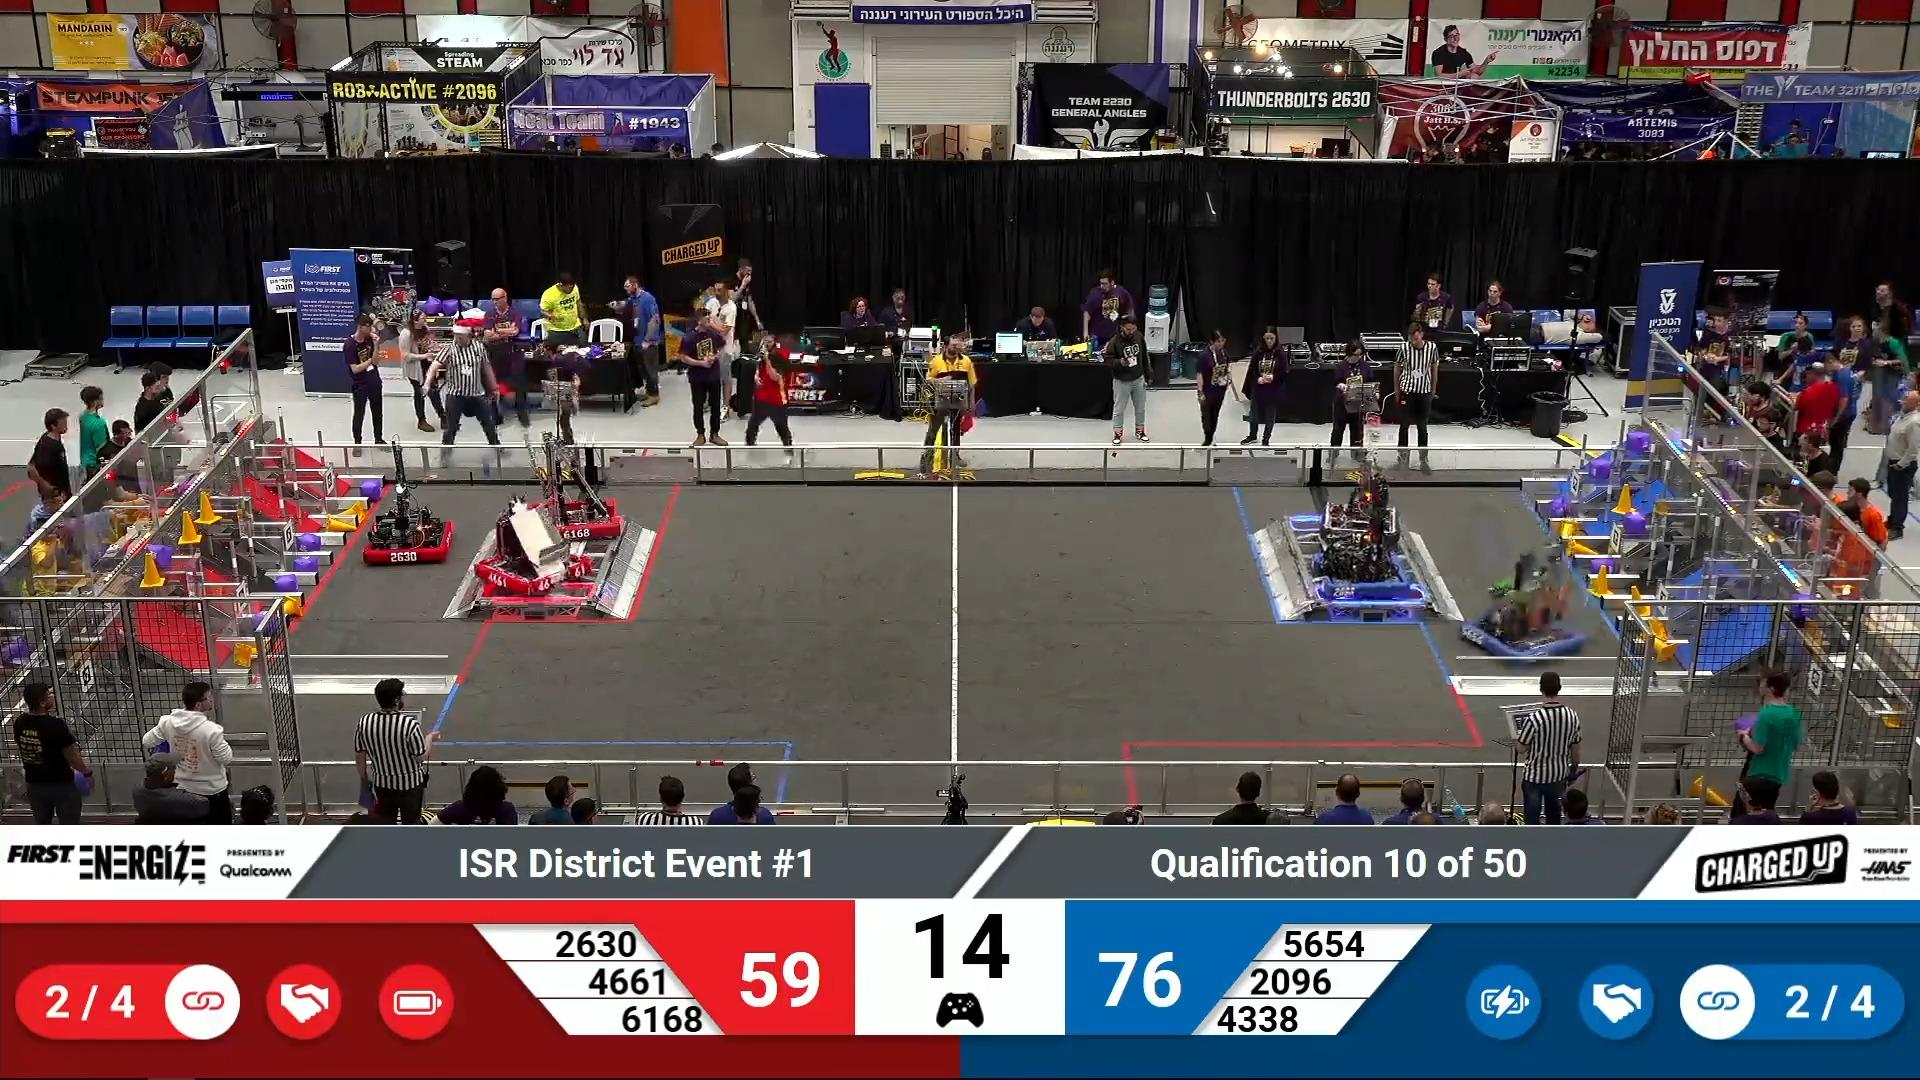robot: (1460, 559, 1593, 673), (479, 508, 591, 599), (533, 448, 624, 541), (357, 487, 456, 564), (1316, 464, 1406, 547), (1308, 535, 1412, 604)
